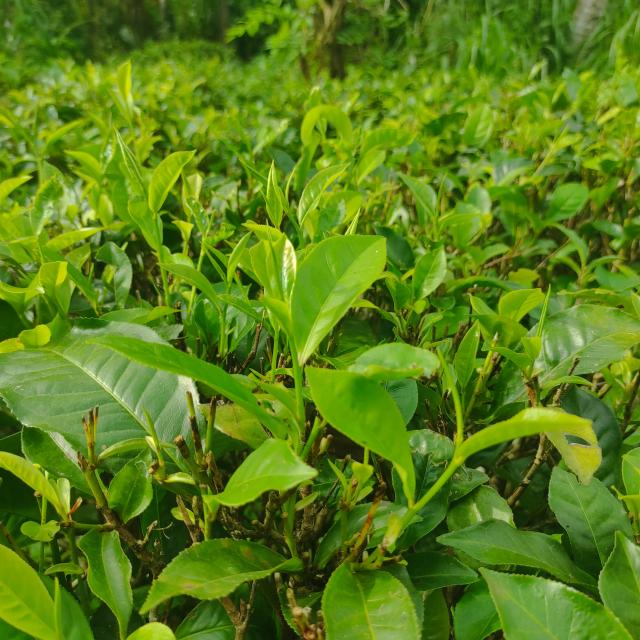unopened_leaf: (432, 344, 469, 459), (195, 236, 232, 290), (530, 278, 558, 344), (265, 222, 285, 300), (50, 574, 71, 640), (139, 400, 163, 455), (432, 167, 454, 221), (278, 164, 301, 206)
